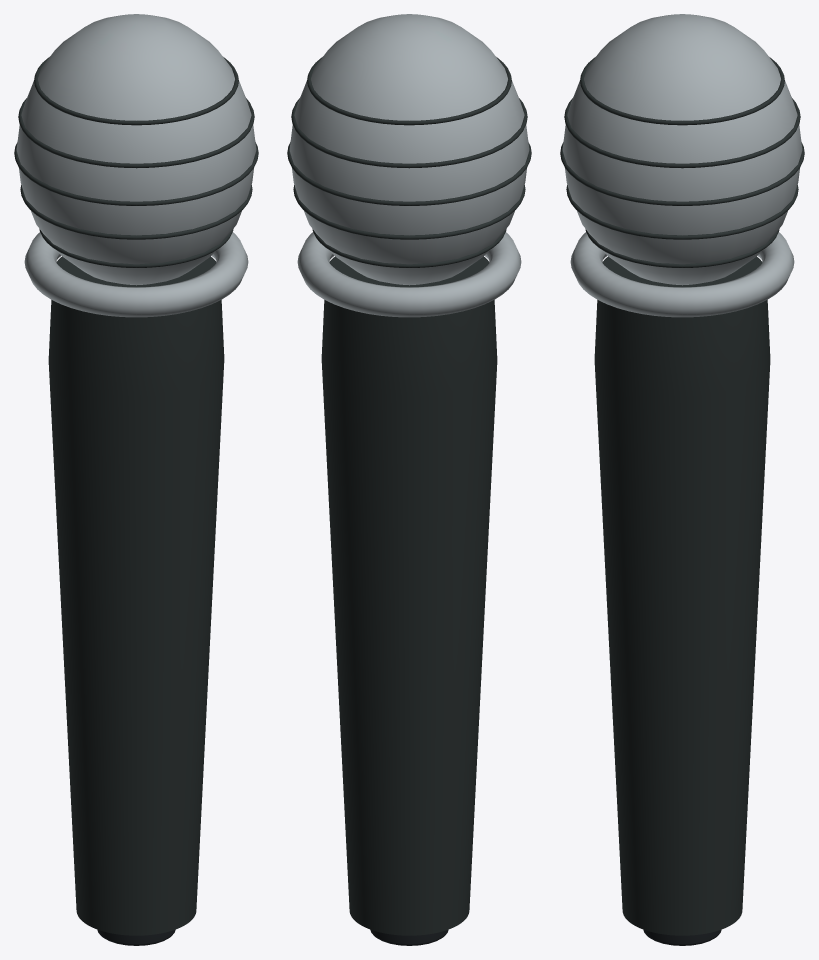
The model's file is microphone.glb.
3 renders of one model, left to right at view 1: azimuth 30°, elevation 25°; view 2: azimuth 150°, elevation 25°; view 3: azimuth 270°, elevation 25°, orthographic.
Visible parts, largest first — view 1: Grille latitude, Microphone grille collar, Connector socket; view 2: Grille latitude, Microphone grille collar, Connector socket; view 3: Grille latitude, Microphone grille collar, Connector socket.
Boxes of the visible parts, box(x1,y1,x2,y2) form: Grille latitude: box(14, 57, 258, 935); Microphone grille collar: box(16, 14, 256, 317); Connector socket: box(97, 929, 175, 945); Grille latitude: box(287, 57, 531, 935); Microphone grille collar: box(289, 14, 529, 317); Connector socket: box(370, 929, 448, 945); Grille latitude: box(560, 57, 804, 935); Microphone grille collar: box(562, 14, 802, 317); Connector socket: box(643, 929, 721, 945).
Bounding box in the file's own units: 0.0612 × 0.2505 × 0.0612.
3 materials, 3 textured.
